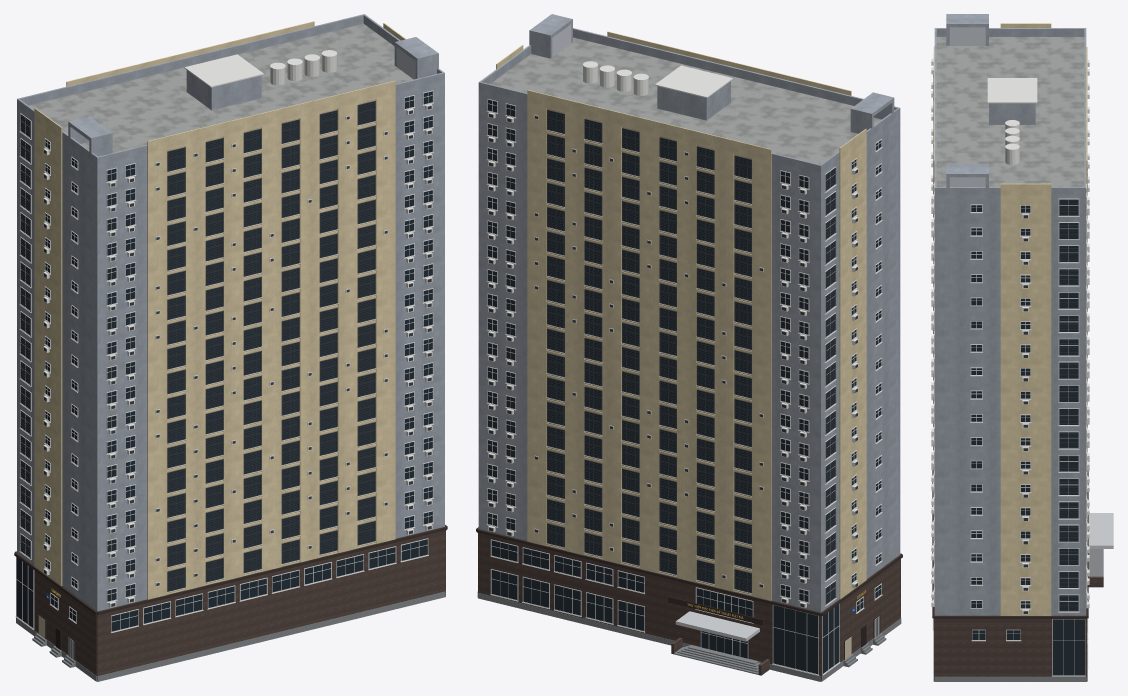
3 renders of one model, left to right at view 1: azimuth 30°, elevation 25°; view 2: azimuth 150°, elevation 25°; view 3: azimuth 270°, elevation 25°, orthographic. The views are drawn at different scales.
Parts seen in each view (by area): view 1: TB2; view 2: TB2; view 3: TB2.
Boxes of the visible parts, box(x1,y1,x2,y2) form: TB2: box(14, 14, 447, 681); TB2: box(476, 14, 902, 681); TB2: box(931, 14, 1113, 681).
Size of what is drawn, in the model's own units: 50.06 by 72.1 by 23.42.
Materials: 19 (6 with a texture image).
